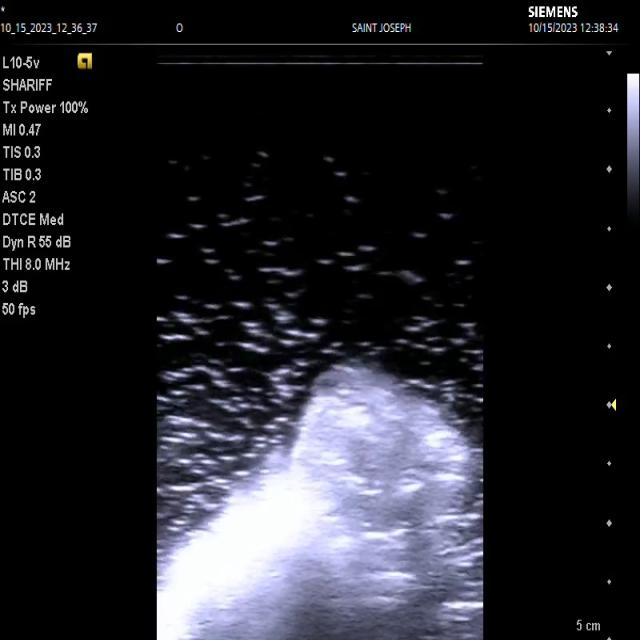tissue: (157, 365, 482, 640)
